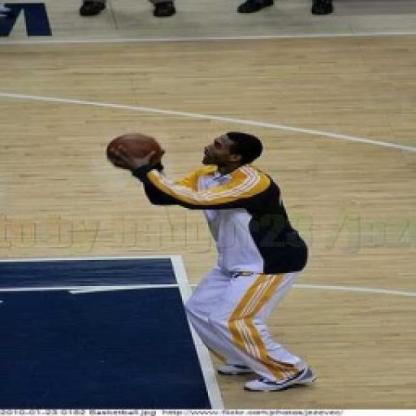basketball: (105, 128, 165, 178)
